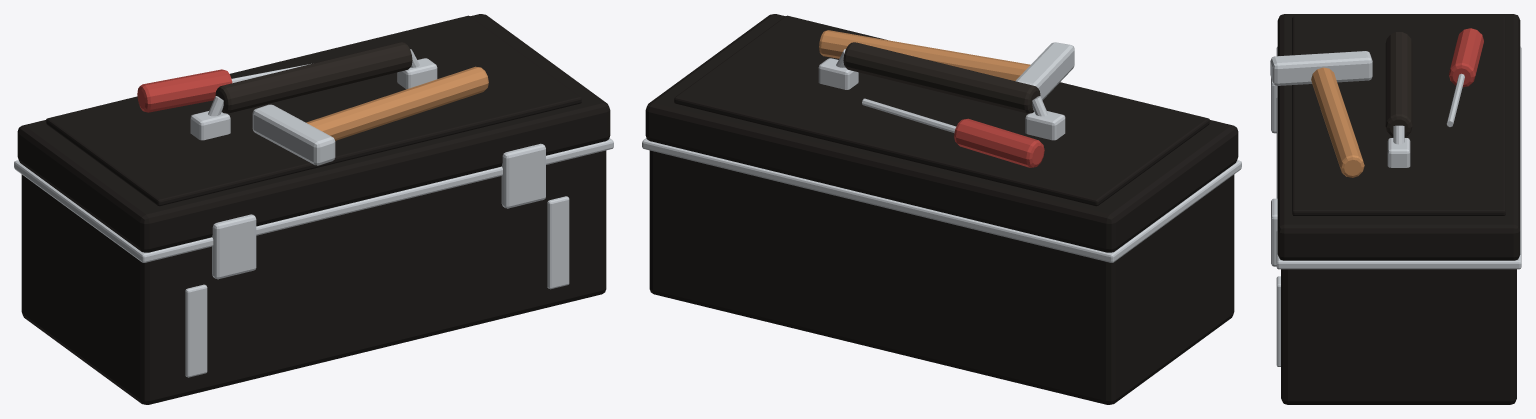
Rendered from hh_cat_tool_box_v.glb.
3 views of the same model, side by side, from view 1: azimuth 30°, elevation 25°; view 2: azimuth 150°, elevation 25°; view 3: azimuth 270°, elevation 25° (orthographic). The views are drawn at different scales.
Parts seen in each view (by area): view 1: body, lid_rib, lid, grip, seam, hammer_handle, hammer_head, driver_handle, latch, latch.001, trim.001, trim (+2 smaller); view 2: body, lid_rib, lid, seam, grip, hammer_handle, driver_handle, hammer_head, handle_mount, handle_mount.001, driver_shaft; view 3: lid_rib, body, lid, seam, hammer_head, hammer_handle, grip, driver_handle, handle_mount.001, trim.001, latch.001, driver_shaft (+1 smaller).
Boxes of the visible parts, <box> form: body: <box>21,150,606,404</box>; lid_rib: <box>46,15,581,206</box>; lid: <box>17,14,610,252</box>; grip: <box>215,42,412,113</box>; seam: <box>14,138,613,262</box>; hammer_handle: <box>306,66,488,140</box>; hammer_head: <box>252,104,335,165</box>; driver_handle: <box>137,69,232,112</box>; latch: <box>212,214,256,279</box>; latch.001: <box>501,143,545,208</box>; trim.001: <box>547,196,569,289</box>; trim: <box>185,284,207,377</box>; body: <box>649,150,1234,404</box>; lid_rib: <box>674,15,1209,206</box>; lid: <box>645,14,1238,252</box>; seam: <box>642,138,1241,262</box>; grip: <box>843,42,1040,113</box>; hammer_handle: <box>819,30,1030,80</box>; driver_handle: <box>954,118,1044,167</box>; hammer_head: <box>1015,42,1074,100</box>; handle_mount: <box>1025,111,1065,140</box>; handle_mount.001: <box>818,58,858,89</box>; driver_shaft: <box>862,98,956,133</box>; lid_rib: <box>1292,16,1505,215</box>; body: <box>1281,269,1516,404</box>; lid: <box>1277,14,1520,260</box>; seam: <box>1276,46,1521,269</box>; hammer_head: <box>1270,51,1372,85</box>; hammer_handle: <box>1311,67,1364,177</box>; grip: <box>1385,32,1412,136</box>; driver_handle: <box>1449,28,1483,87</box>; handle_mount.001: <box>1387,138,1410,167</box>; trim.001: <box>1276,276,1280,366</box>; latch.001: <box>1271,198,1277,266</box>; driver_shaft: <box>1446,73,1464,126</box>.
Size of the model in its own units: 0.45 by 0.22 by 0.22.
